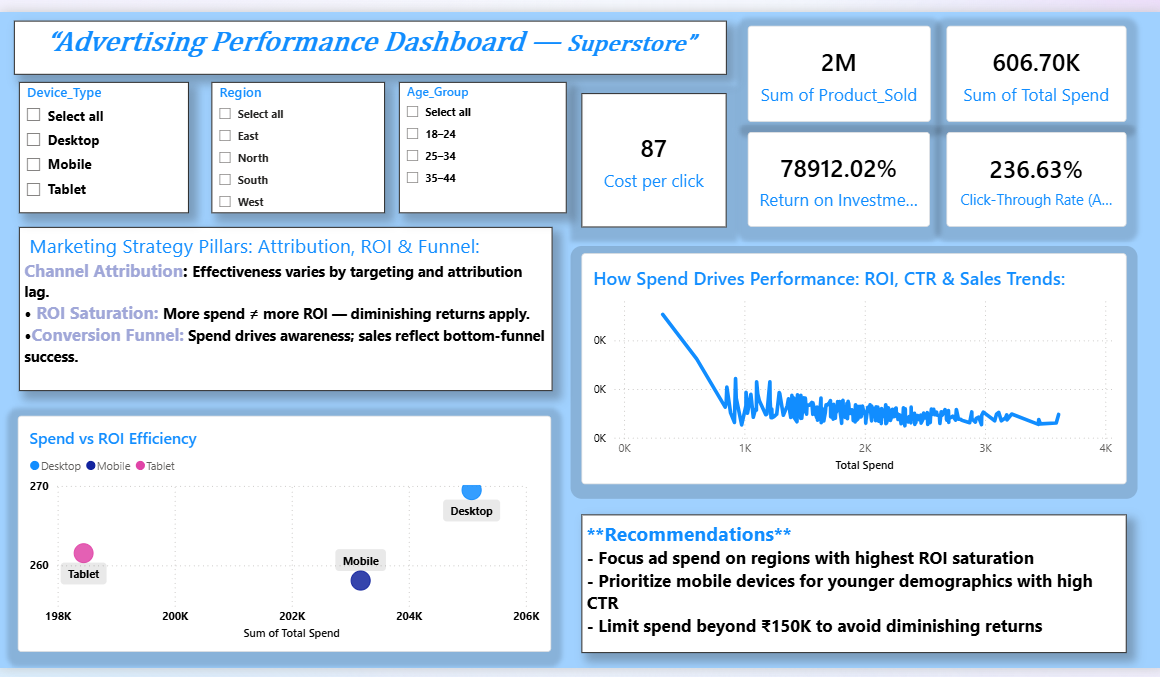

Layout of this report page (visuals, bound fields, positions):
{"tool":"powerbi","page":{"name":"Page 1","canvas":[1280,720],"ordinal":0},"visuals":[{"type":"card","fields":{"Values":["Sum(Advertising_Data.Total Spend)"]},"box":[1040.7,15.6,197.6,105.8],"z":0},{"type":"card","fields":{"Values":["Sum(Advertising_Data.Product_Sold)"]},"box":[821.4,15.6,200.7,105.8],"z":1000},{"type":"textbox","box":[16.5,9.6,782.2,59],"z":2000},{"type":"textbox","box":[22,236,585.9,179.8],"z":3000},{"type":"card","fields":{"Values":["Avg(Advertising_Data.CTR)"]},"box":[1040.1,131.7,197.6,104.3],"z":4000},{"type":"card","fields":{"Values":["Sum(Advertising_Data.CPC)"]},"box":[639.5,89.2,159.2,146.8],"z":5000},{"type":"card","fields":{"Values":["Sum(Advertising_Data.ROI)"]},"box":[822,131.7,200.3,104.3],"z":6000},{"type":"slicer","fields":{"Values":["Advertising_Data.Region"]},"box":[233.3,76.8,190.7,144.1],"z":7000},{"type":"slicer","fields":{"Values":["Advertising_Data.Device_Type"]},"box":[22,76.8,186.6,144.1],"z":8000},{"type":"slicer","fields":{"Values":["Advertising_Data.Age_Group"]},"box":[439.1,76.8,183.9,144.1],"z":9000},{"type":"lineChart","title":"How Spend Drives Performance: ROI, CTR & Sales Trends:","fields":{"Y":["Sum(Advertising_Data.ROI)"],"Category":["Advertising_Data.Total Spend"]},"box":[639.5,264.8,598.3,253.9],"z":10000},{"type":"textbox","box":[639.5,551.6,598.3,152.3],"z":11000},{"type":"scatterChart","title":"Spend vs ROI Efficiency","fields":{"Y":["Sum(Advertising_Data.ROI)"],"X":["Sum(Advertising_Data.Total Spend)"],"Size":["Sum(Advertising_Data.Product_Sold)"],"Series":["Advertising_Data.Device_Type"]},"box":[20.6,443.2,585.9,259.3],"z":12000}]}

Visuals, with their boxes on the page's 1280x720 design canvas (x1, y1, x2, y2). These are canvas units, not pixel positions in the 1160x677 screenshot, which may show the page scaled, cropped or inside an application window:
card - Sum(Advertising_Data.Total Spend): <region>1041, 16, 1238, 121</region>
card - Sum(Advertising_Data.Product_Sold): <region>821, 16, 1022, 121</region>
textbox: <region>16, 10, 799, 69</region>
textbox: <region>22, 236, 608, 416</region>
card - Avg(Advertising_Data.CTR): <region>1040, 132, 1238, 236</region>
card - Sum(Advertising_Data.CPC): <region>640, 89, 799, 236</region>
card - Sum(Advertising_Data.ROI): <region>822, 132, 1022, 236</region>
slicer - Advertising_Data.Region: <region>233, 77, 424, 221</region>
slicer - Advertising_Data.Device_Type: <region>22, 77, 209, 221</region>
slicer - Advertising_Data.Age_Group: <region>439, 77, 623, 221</region>
"How Spend Drives Performance: ROI, CTR & Sales Trends:" lineChart: <region>640, 265, 1238, 519</region>
textbox: <region>640, 552, 1238, 704</region>
"Spend vs ROI Efficiency" scatterChart: <region>21, 443, 606, 702</region>
